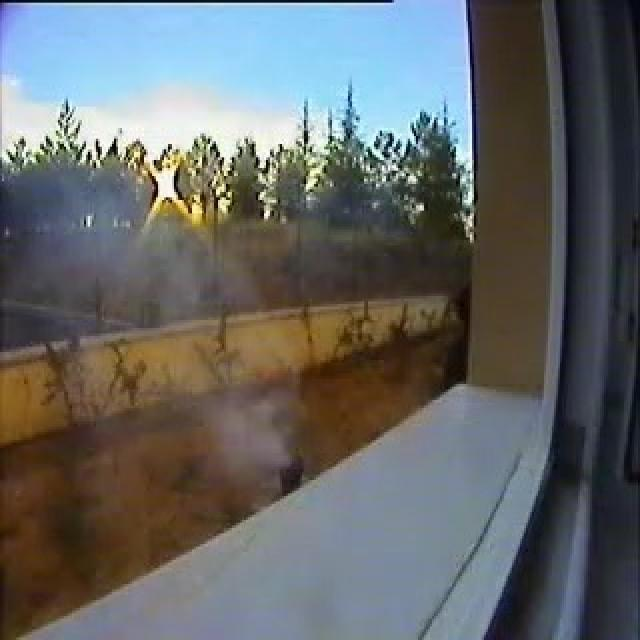smoke: (204, 384, 291, 474)
